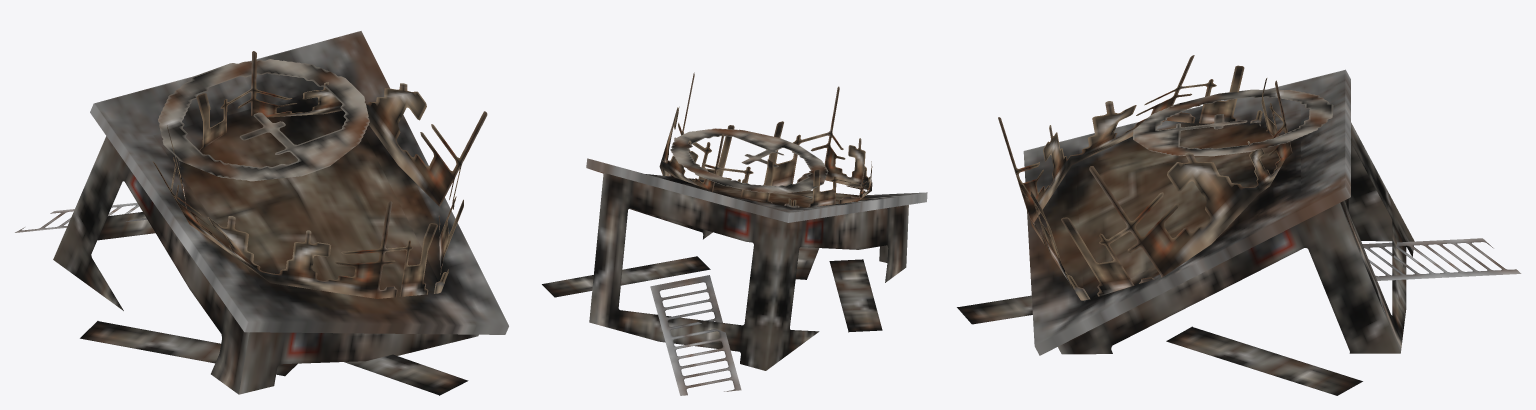
File: watertower_dam.glb
3 renders of one model, left to right at view 1: azimuth 30°, elevation 25°; view 2: azimuth 150°, elevation 25°; view 3: azimuth 270°, elevation 25°, orthographic. The views are drawn at different scales.
Parts seen in each view (by area): view 1: WaterTowerDam, LOS_Debris; view 2: WaterTowerDam, LOS_Debris; view 3: WaterTowerDam, LOS_Debris.
Part boxes in pixels (left/top/right/bottom): WaterTowerDam: left=53, top=31, right=508, bottom=394; LOS_Debris: left=15, top=203, right=468, bottom=395; WaterTowerDam: left=586, top=72, right=927, bottom=370; LOS_Debris: left=542, top=247, right=882, bottom=395; WaterTowerDam: left=998, top=55, right=1414, bottom=355; LOS_Debris: left=957, top=238, right=1521, bottom=395.
Size of the model in its own units: 8.67 by 5.73 by 11.03.
Materials: 1 (1 with a texture image).
